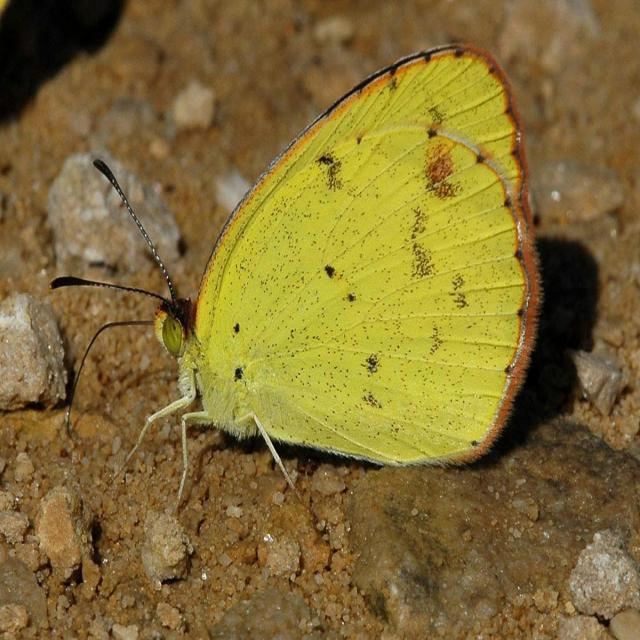other: (193, 34, 544, 477)
